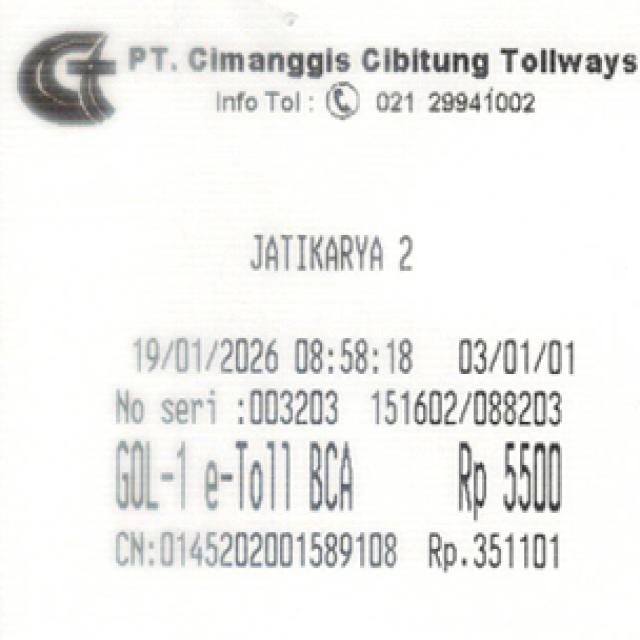date: (126, 334, 416, 378)
store: (114, 44, 640, 83)
total: (434, 433, 572, 520)
